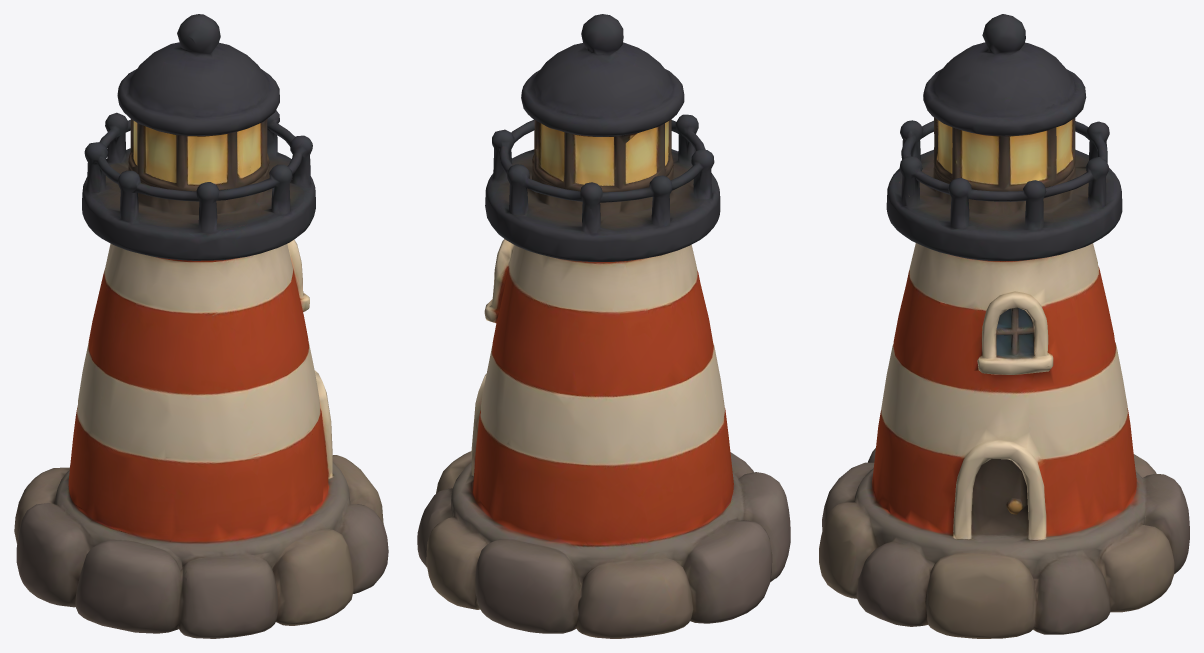
Rendered from lighthouse.glb.
3 renders of one model, left to right at view 1: azimuth 30°, elevation 25°; view 2: azimuth 150°, elevation 25°; view 3: azimuth 270°, elevation 25°, orthographic.
Visible parts, largest first — view 1: tripo_node_d1fcf1f0-fec5-4c55-bafd-af187be4970f; view 2: tripo_node_d1fcf1f0-fec5-4c55-bafd-af187be4970f; view 3: tripo_node_d1fcf1f0-fec5-4c55-bafd-af187be4970f.
Boxes of the visible parts, x1,y1,x2,y2 form: tripo_node_d1fcf1f0-fec5-4c55-bafd-af187be4970f: (14,14,388,638); tripo_node_d1fcf1f0-fec5-4c55-bafd-af187be4970f: (417,14,790,638); tripo_node_d1fcf1f0-fec5-4c55-bafd-af187be4970f: (819,14,1189,638).
Size of the model in its own units: 0.6163 by 1 by 0.612.
Materials: 1 (1 with a texture image).
